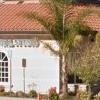Palm tree: (37, 3, 81, 94)
